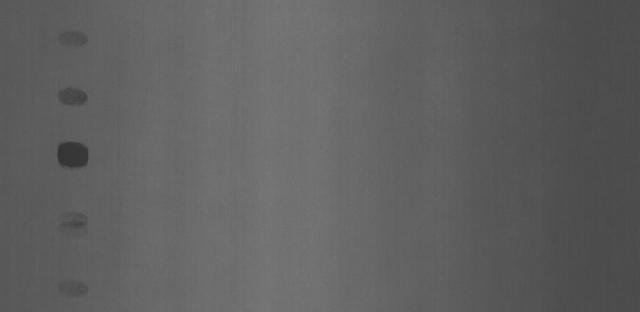oil_spot: (54, 138, 94, 173), (51, 212, 92, 239), (54, 274, 90, 300), (57, 83, 92, 109), (56, 29, 88, 49)
